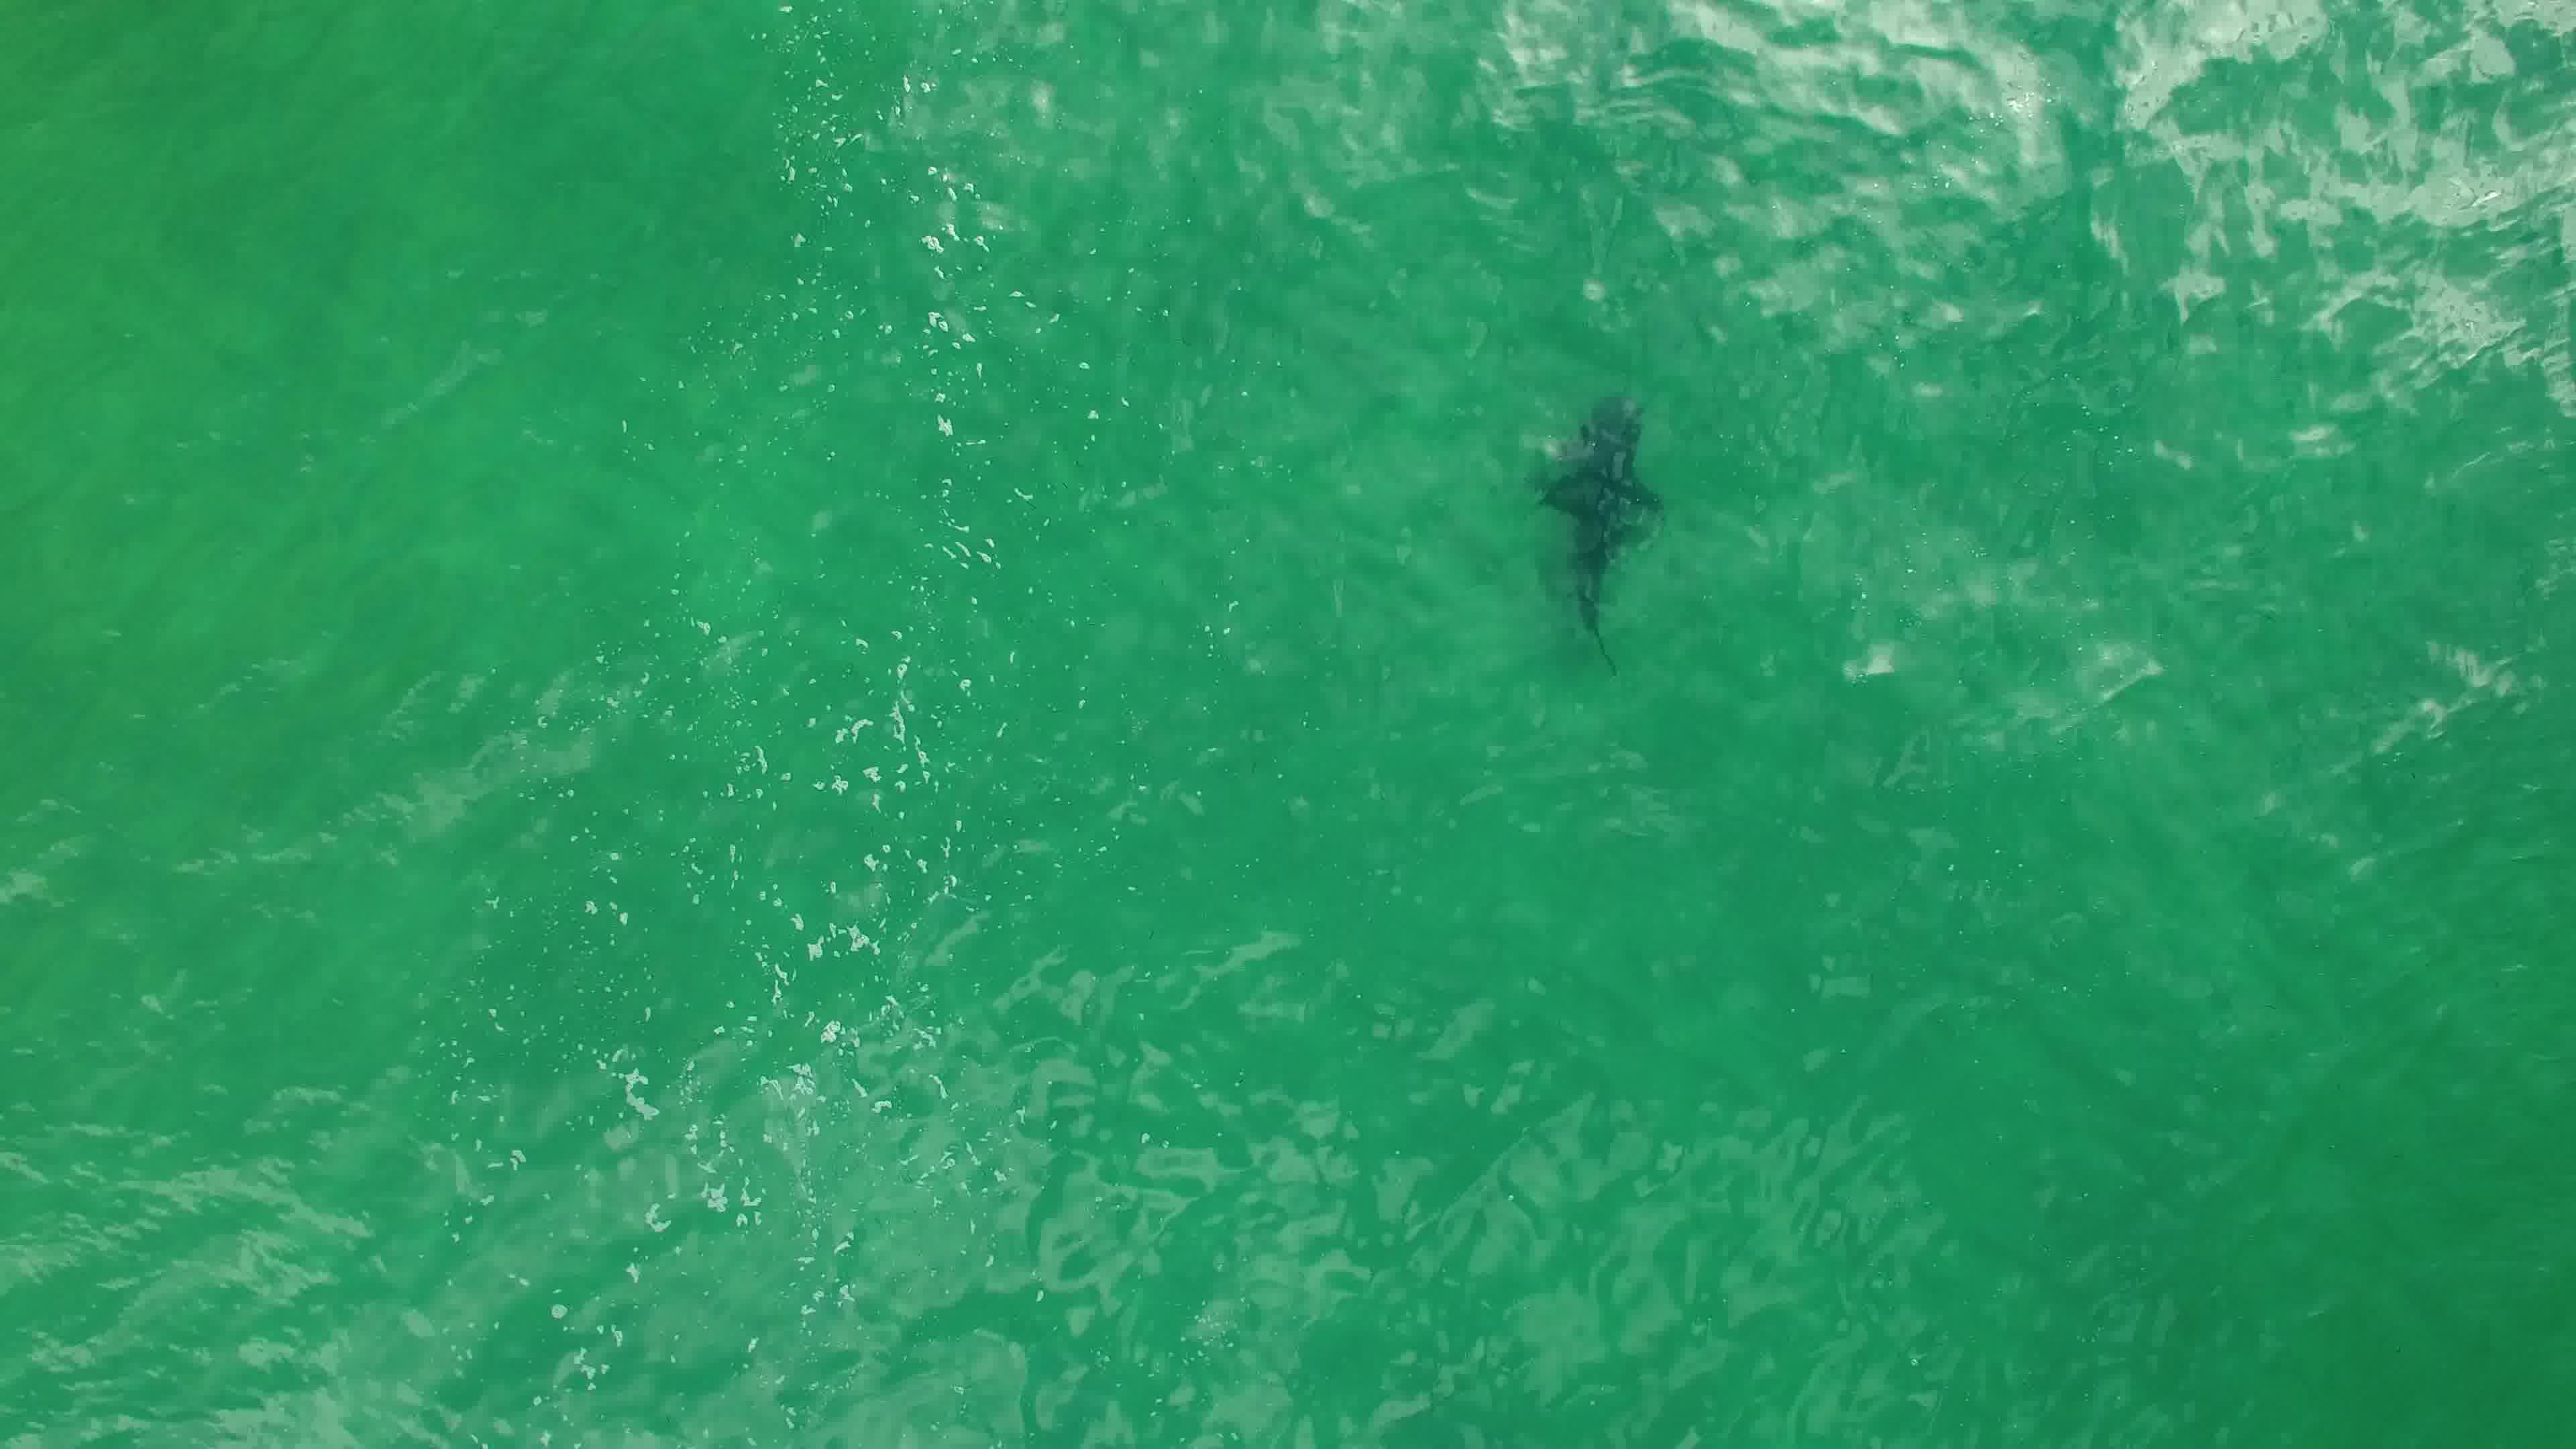shark: (1520, 384, 1675, 692)
